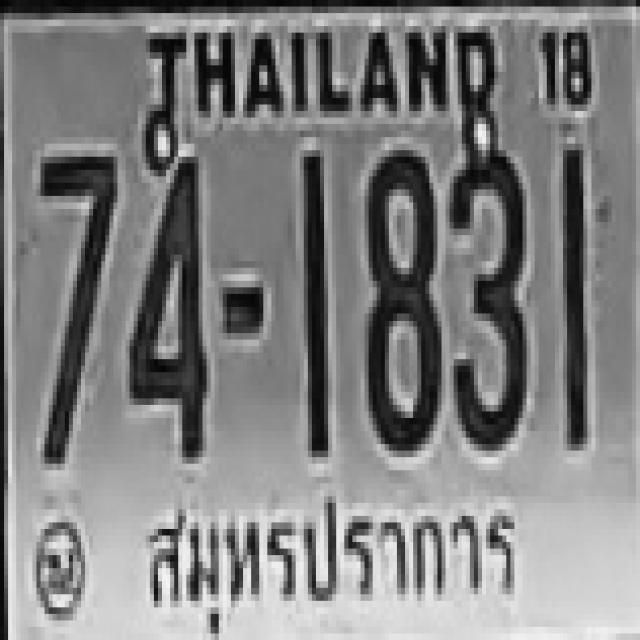1: (300, 150, 324, 451), (561, 147, 585, 447)
3: (446, 144, 522, 444)
4: (126, 150, 207, 457)
7: (36, 150, 114, 457), (36, 150, 114, 359)
8: (364, 144, 438, 444)
SamutPrakan: (134, 483, 522, 632)
